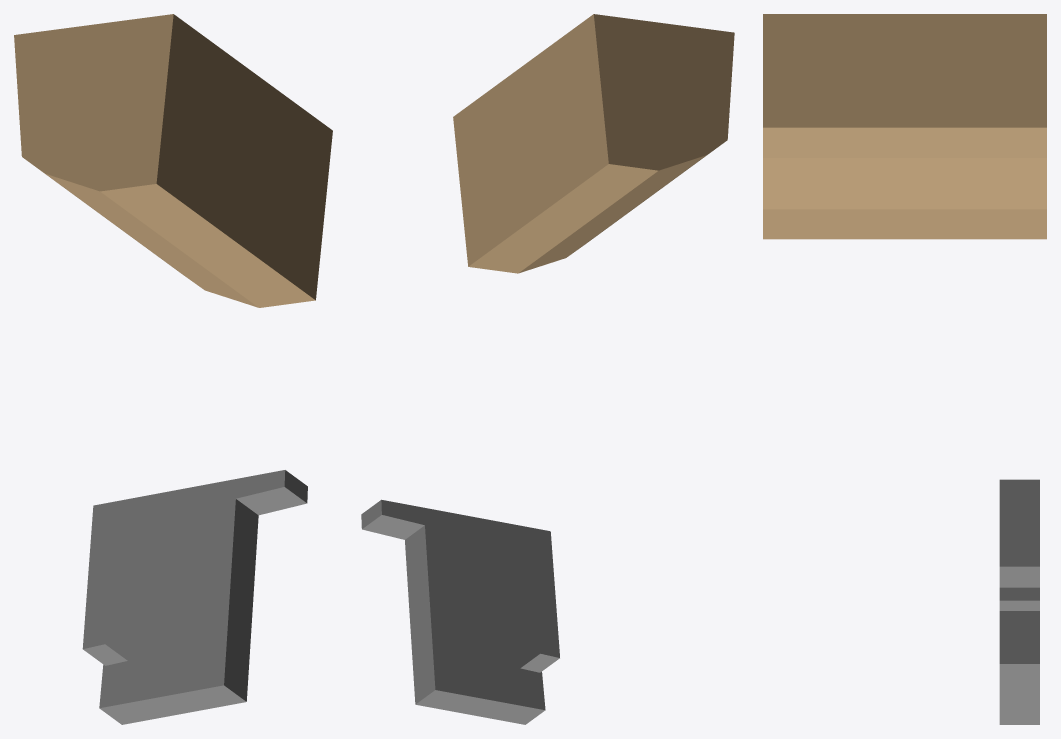
3 renders of one model, left to right at view 1: azimuth 30°, elevation 25°; view 2: azimuth 150°, elevation 25°; view 3: azimuth 270°, elevation 25°, orthographic. The views are drawn at different scales.
Visible parts, largest first — view 1: 0_3_1_0_3_3_3_0_2; view 2: 0_3_1_0_3_3_3_0_2; view 3: 0_3_1_0_3_3_3_0_2.
Part boxes in pixels (x1,y1,x2,y2): 0_3_1_0_3_3_3_0_2: [14, 14, 332, 724]; 0_3_1_0_3_3_3_0_2: [361, 14, 734, 724]; 0_3_1_0_3_3_3_0_2: [763, 14, 1046, 724].
Bounding box in the file's own units: 20.35 × 50.74 × 21.
